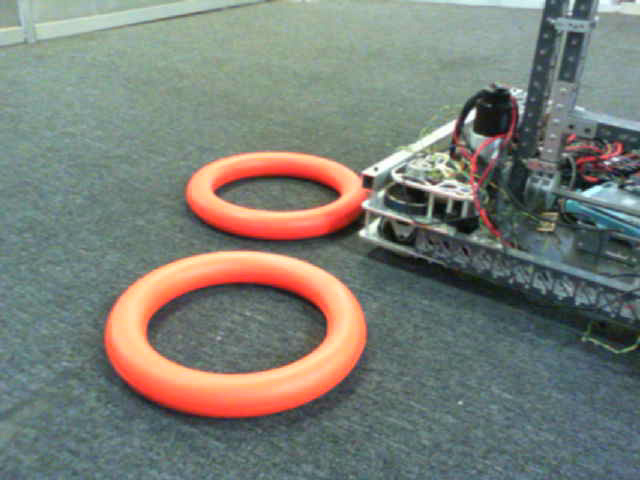Note: (108, 257, 370, 418), (189, 154, 377, 242)
Robot: (367, 17, 640, 336)
